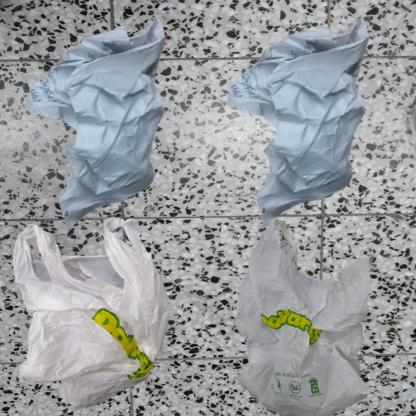bolsa: (213, 213, 416, 416), (10, 213, 176, 416)
papel: (10, 10, 218, 249), (213, 10, 414, 243)
